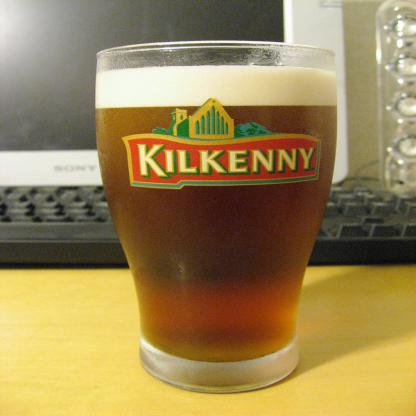drinking: (95, 40, 338, 394)
